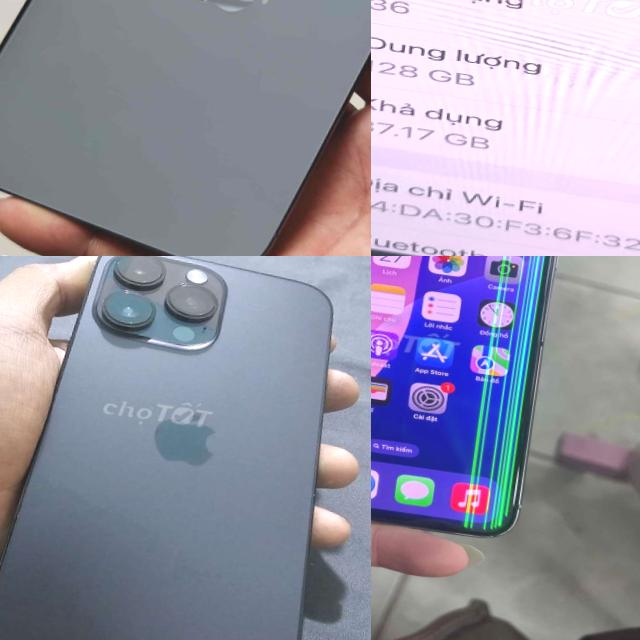screen_defect: (456, 464, 532, 510), (478, 314, 544, 366), (461, 428, 535, 472), (484, 279, 554, 323), (466, 387, 531, 434), (457, 502, 524, 541), (493, 259, 571, 290), (476, 362, 540, 394), (487, 256, 566, 269)
